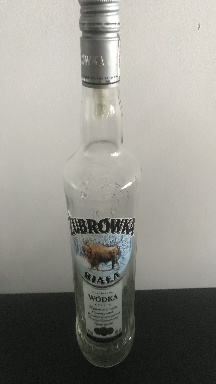butelka: (60, 0, 143, 370), (101, 221, 126, 316)
